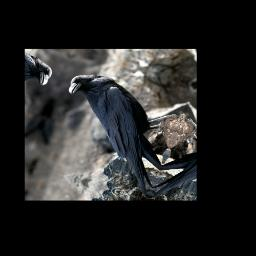Crow: (35, 67, 190, 199)
